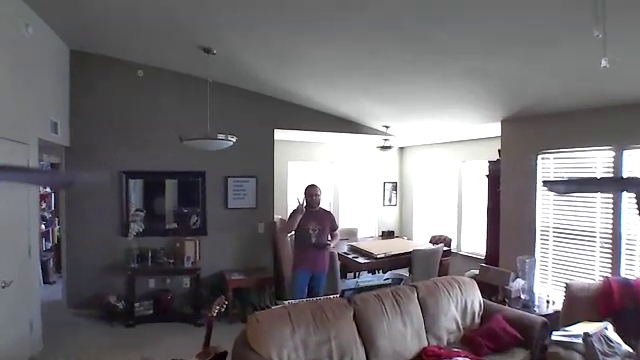peace: (292, 195, 309, 216)
